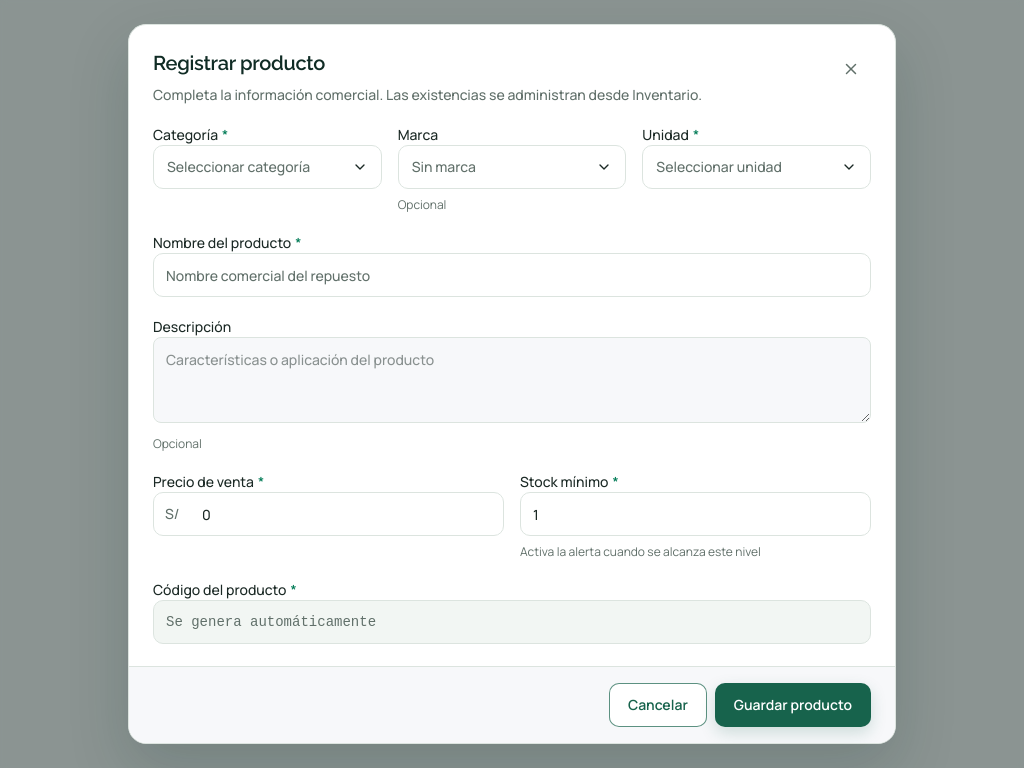
Test: Formulario de productos › rechaza un precio negativo
This screenshot has width=1024, height=768.
Type "Filtro" into the field labelled "Nombre del producto*" at (512, 275), box [154,254,870,296]
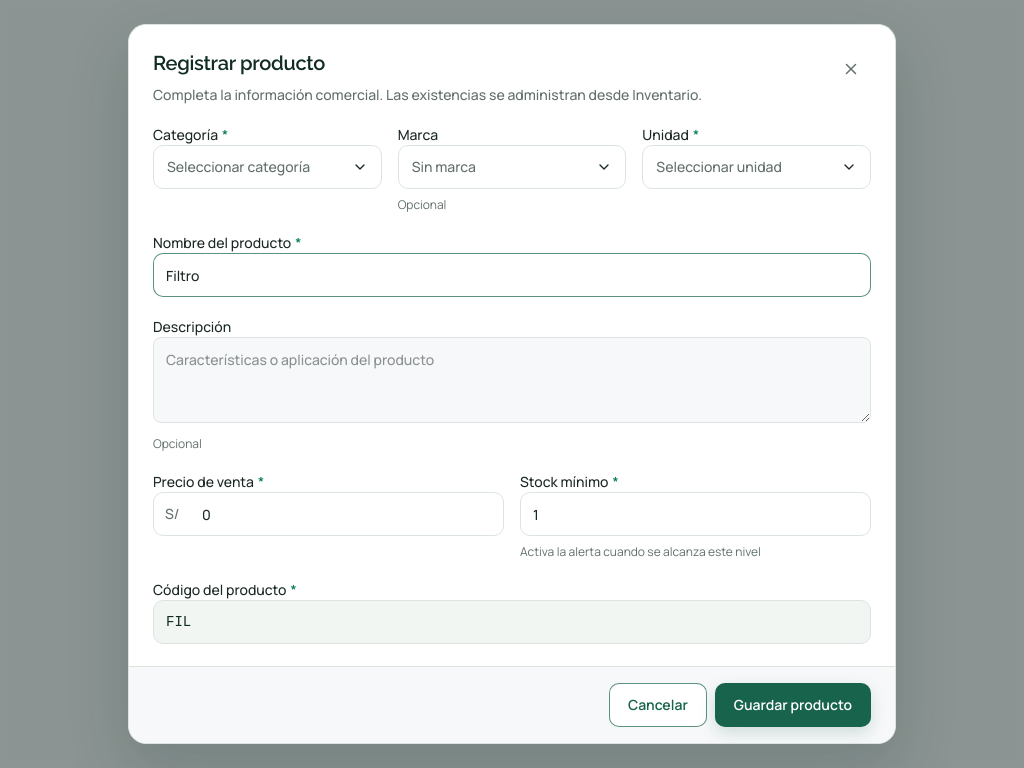
Replace the text in the number field labelled "Precio de venta* S/" with "-5" at (346, 514), box [190,493,503,535]
Click the button "Seleccionar categoría" at (267, 167), box [153,145,382,189]
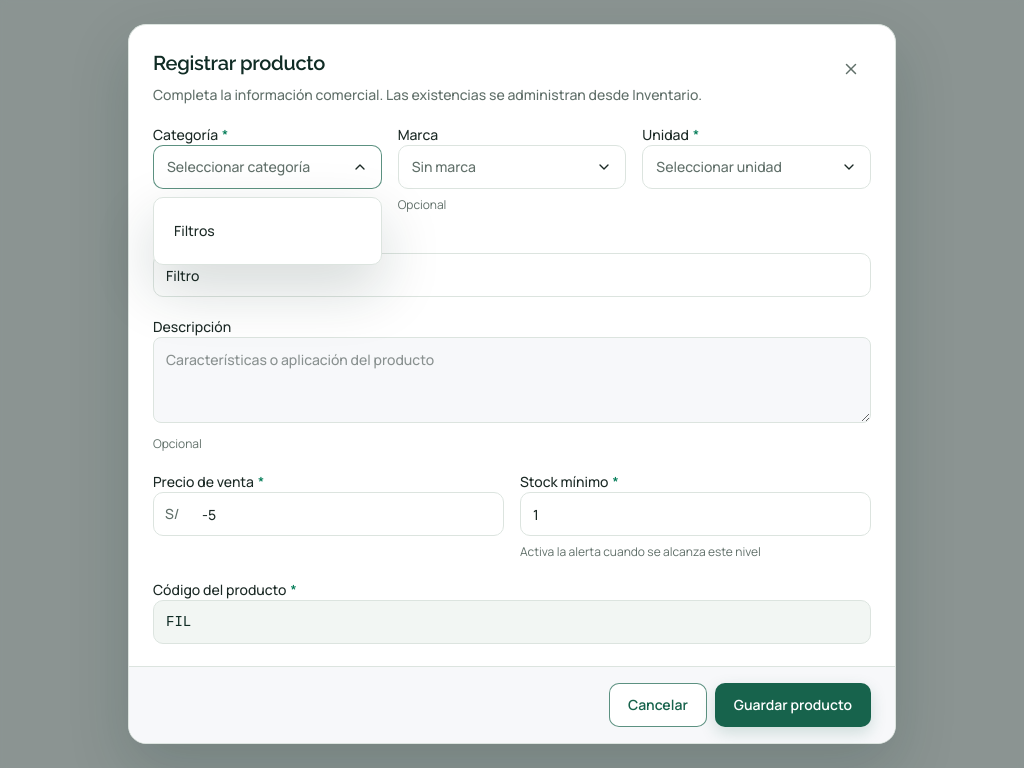
Click the option "Filtros" at (267, 231), box [162,210,373,252]
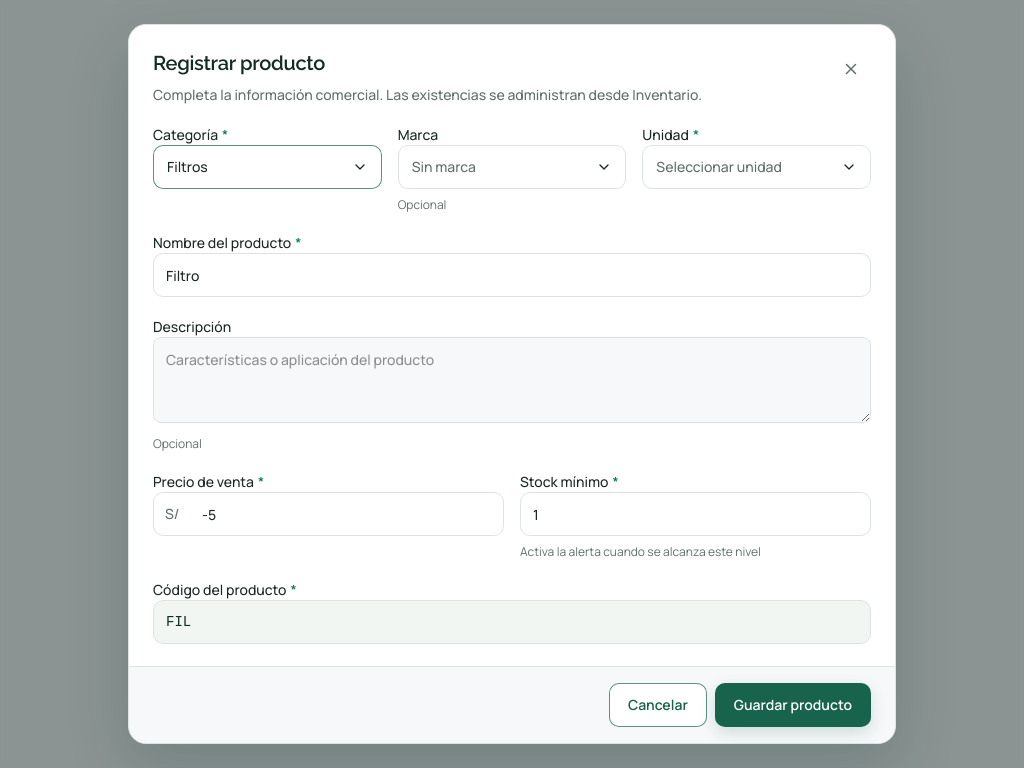
Click the button "Seleccionar unidad" at (757, 167), box [642,145,871,189]
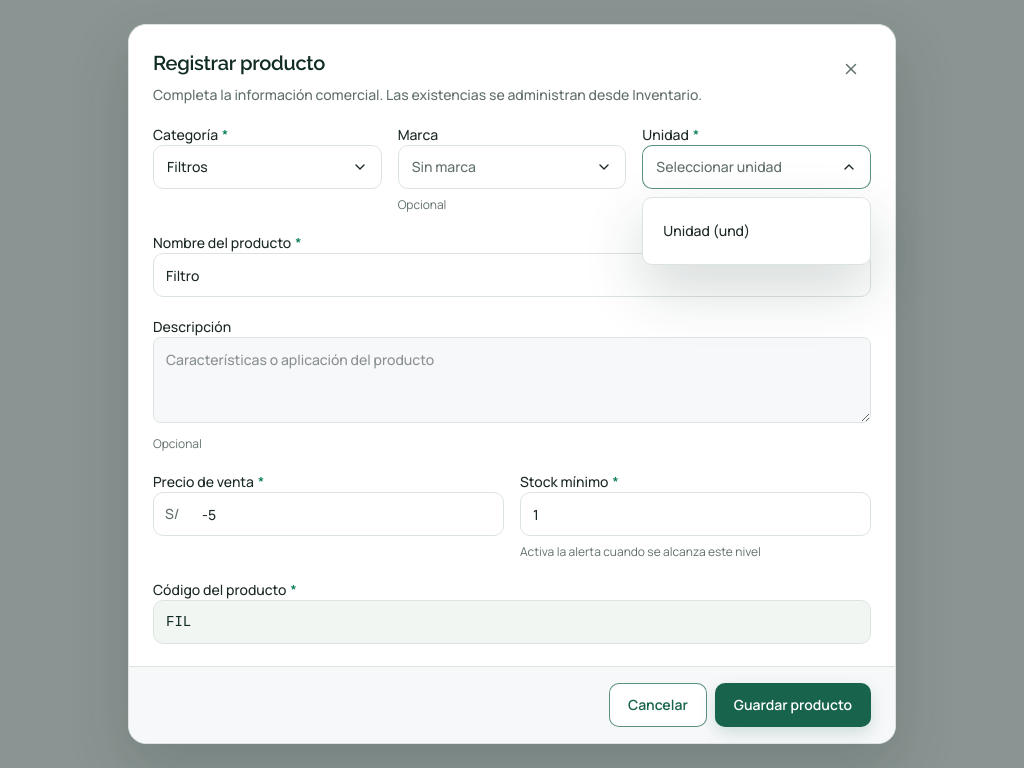
Click the option "Unidad (und)" at (757, 231), box [651,210,862,252]
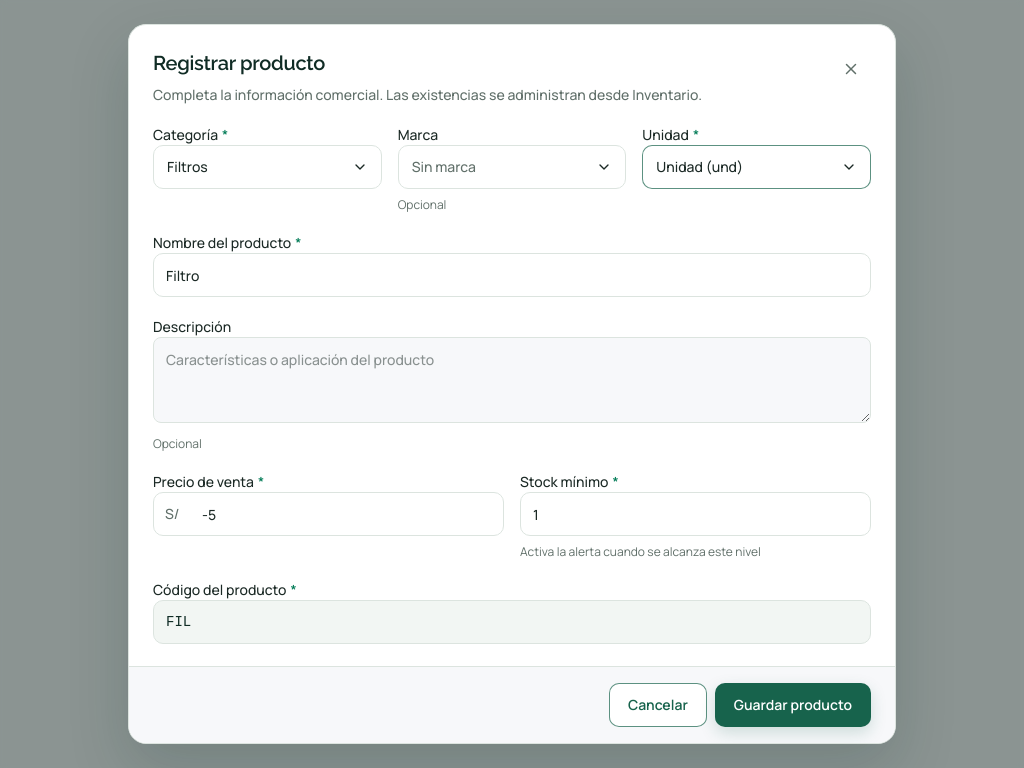
Click the button "Guardar producto" at (793, 705), box [715,683,871,727]
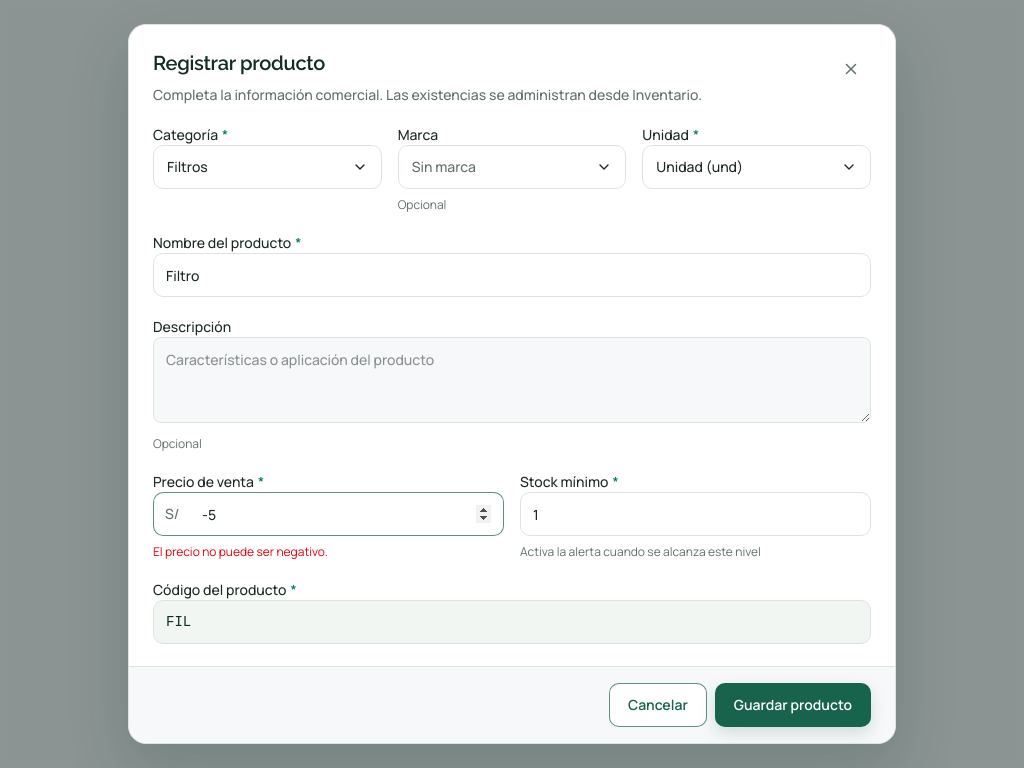
Now the text "El precio no puede ser negativo." is shown, box [153,543,328,560]
